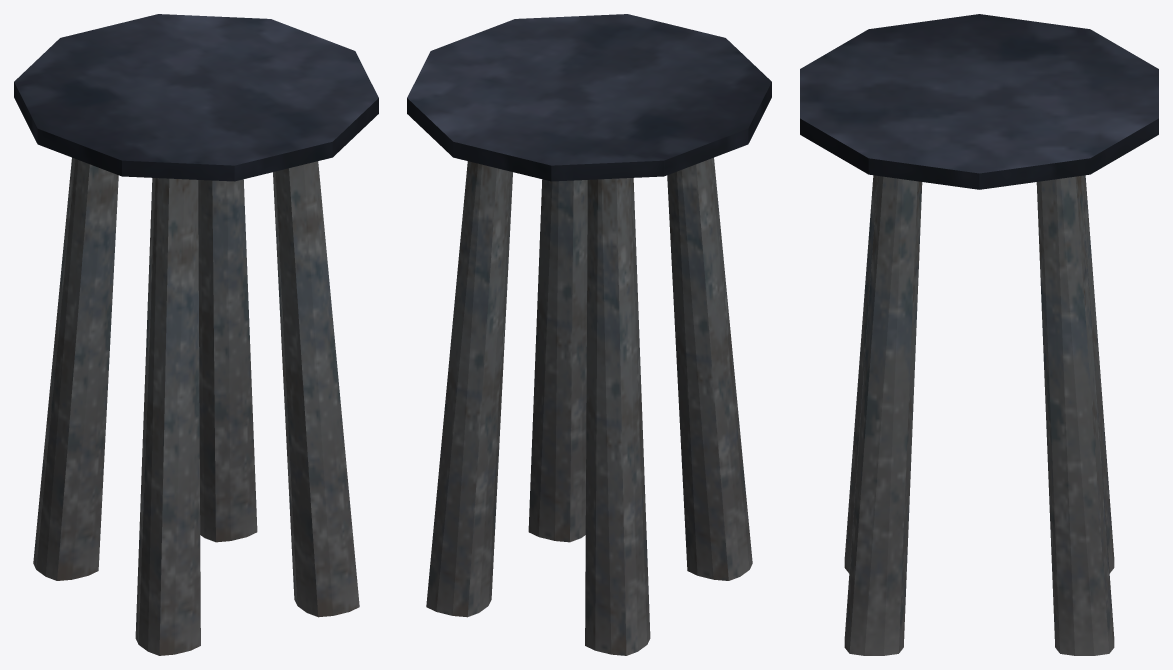
Rendered from Stool_SM.fbx.
The picture shows the model from 3 angles, left to right: view 1: azimuth 30°, elevation 25°; view 2: azimuth 150°, elevation 25°; view 3: azimuth 270°, elevation 25°; orthographic projection. The views are drawn at different scales.
Parts seen in each view (by area): view 1: Stool; view 2: Stool; view 3: Stool.
Boxes of the visible parts, box(x1,y1,x2,y2) form: Stool: box(14, 14, 378, 655); Stool: box(407, 14, 771, 655); Stool: box(800, 14, 1158, 655).
Bounding box in the file's own units: 54.98 × 81.95 × 52.29.
